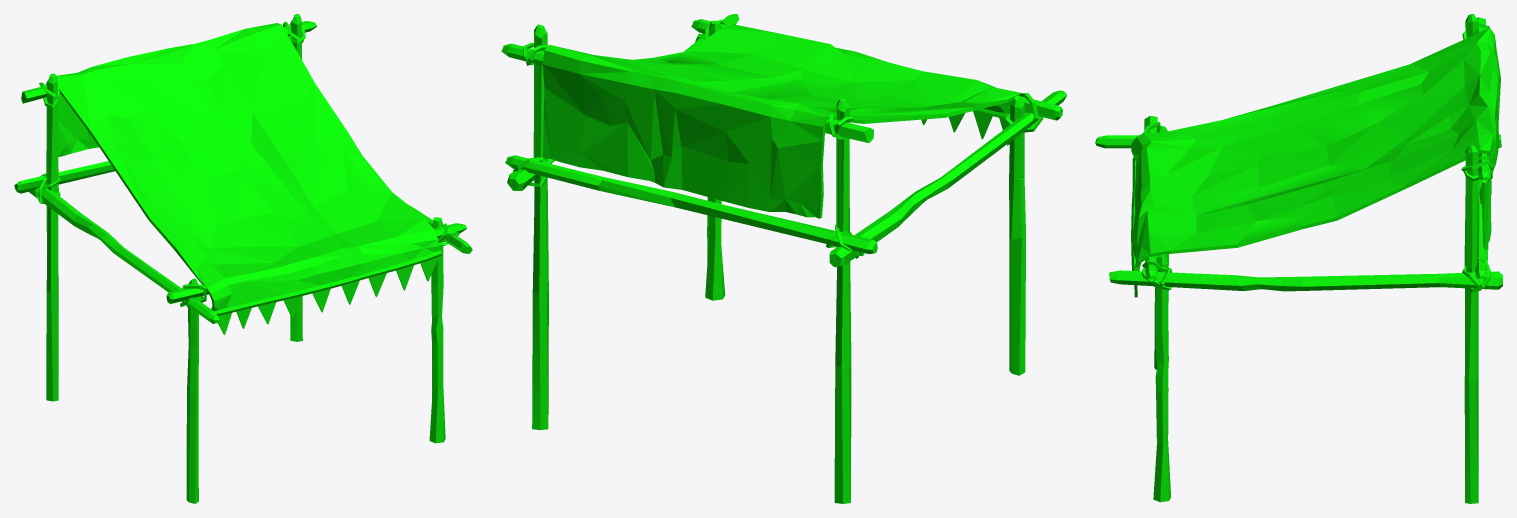
File: SM_Market_Stall_A_Short_Stripes.fbx
3 views of the same model, side by side, from view 1: azimuth 30°, elevation 25°; view 2: azimuth 150°, elevation 25°; view 3: azimuth 270°, elevation 25° (orthographic). The views are drawn at different scales.
Visible parts, largest first — view 1: market-stall-a-short-stripes; view 2: market-stall-a-short-stripes; view 3: market-stall-a-short-stripes.
Boxes of the visible parts, bbox=[...] form: market-stall-a-short-stripes: bbox=[14, 14, 472, 503]; market-stall-a-short-stripes: bbox=[501, 14, 1066, 503]; market-stall-a-short-stripes: bbox=[1095, 14, 1502, 503].
Size of the model in its own units: 3.7 by 3.82 by 3.95.
